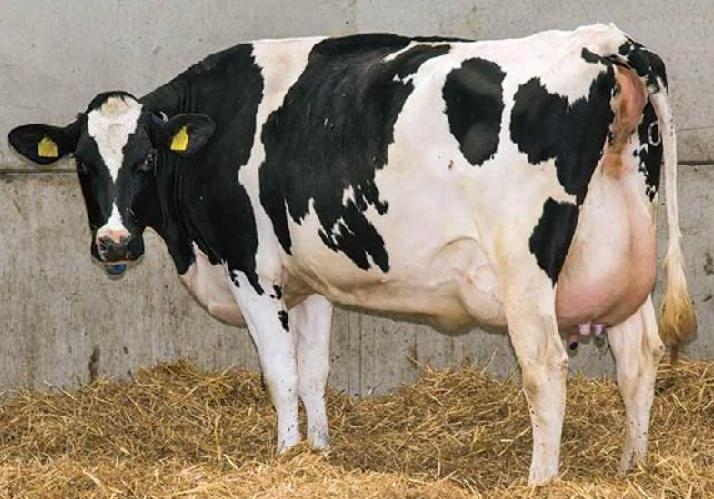cow: (6, 23, 694, 487)
